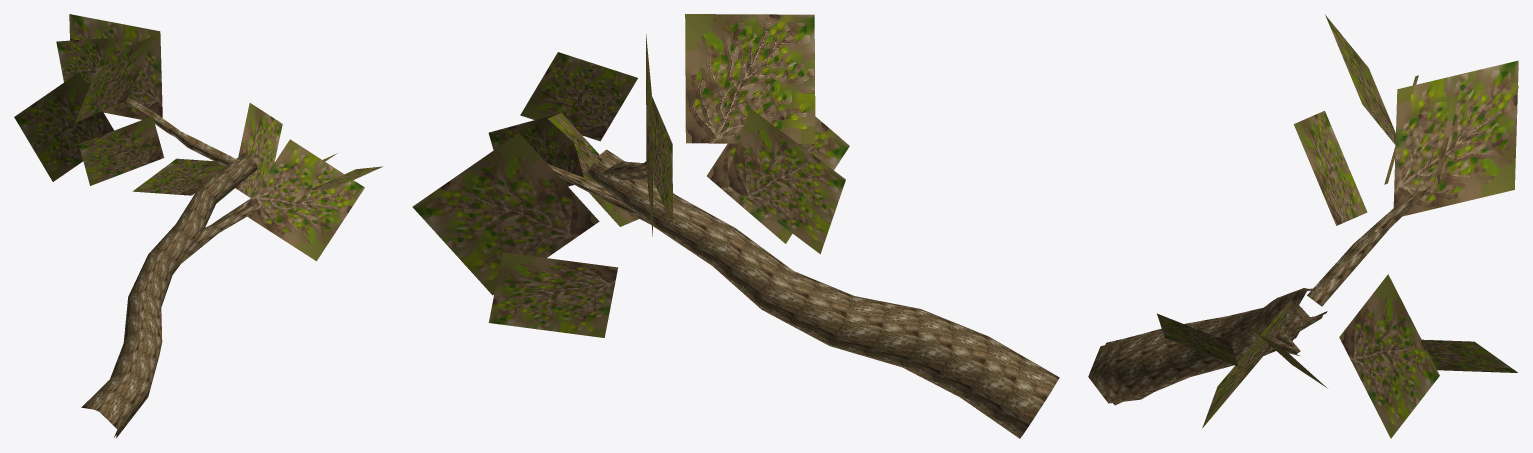
File: far.glb
The picture shows the model from 3 angles, left to right: view 1: azimuth 30°, elevation 25°; view 2: azimuth 150°, elevation 25°; view 3: azimuth 270°, elevation 25°; orthographic projection. The views are drawn at different scales.
Visible parts, largest first — view 1: lod1, lod2; view 2: lod1, lod2; view 3: lod1, lod2.
Part boxes in pixels (box(x1,y1,x2,y2)): lod1: box(14, 35, 383, 438); lod2: box(56, 14, 364, 437); lod1: box(412, 14, 1059, 438); lod2: box(488, 34, 1059, 435); lod1: box(1088, 14, 1517, 438); lod2: box(1105, 60, 1518, 428).
Bounding box in the file's own units: 40.62 × 38.74 × 34.77.
2 materials, 2 textured.
